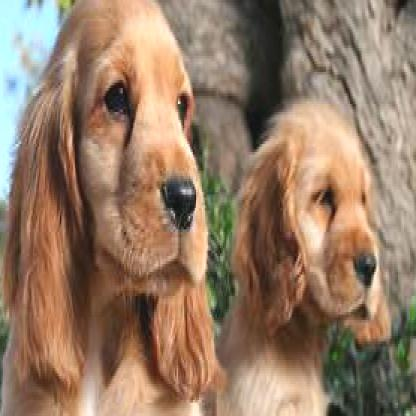dog: (0, 0, 219, 414), (217, 96, 395, 413)
